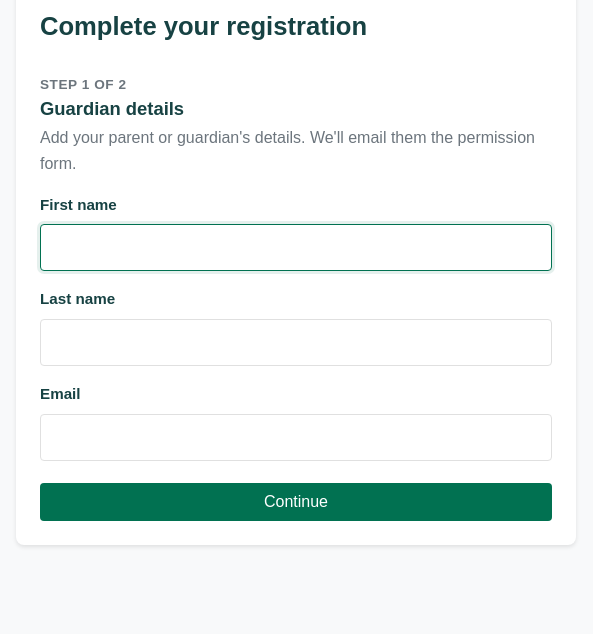
Test: from a registration email › takes them back to their guardian when the server refuses them
Type "Taylor" into the field with id "guardian-first-name". click: coordinates (296, 248)
box: [40,224,552,272]
Type "Pupil" into the field with id "guardian-last-name". click: coordinates (296, 343)
box: [40,319,552,366]
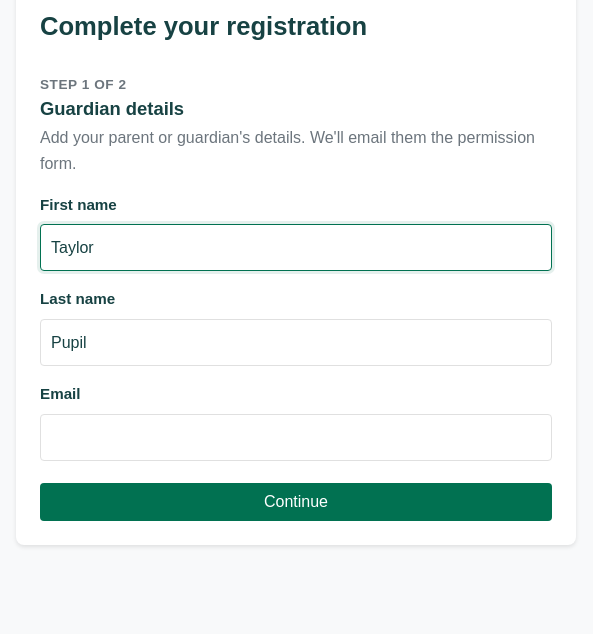
Type "pupil@example.com" into the field with id "guardian-email". click: coordinates (296, 438)
box: [40,414,552,461]
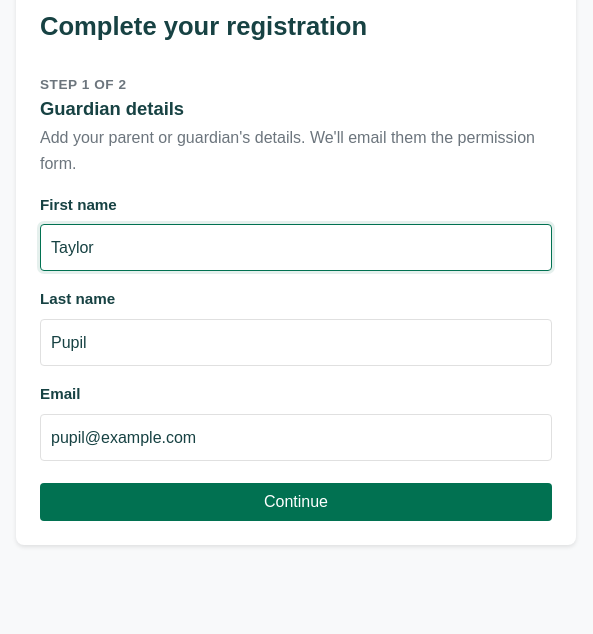
Submit the form, box [40,193,552,521]
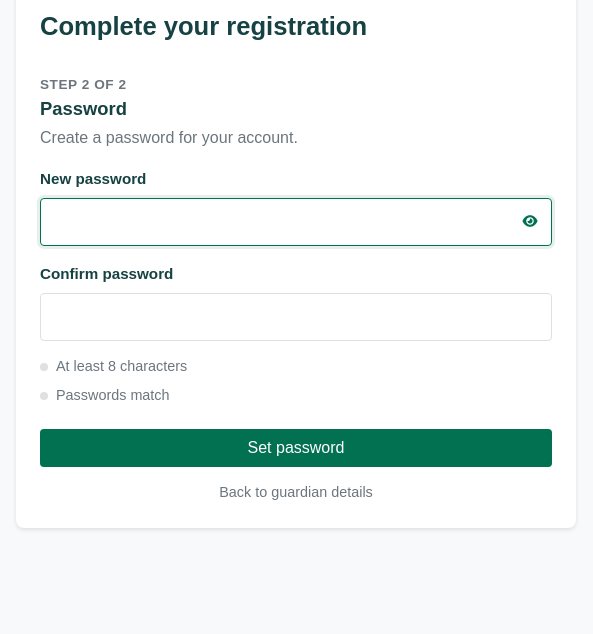
Type "a-good-password" into the password field with id "new-password". click: coordinates (277, 222)
box: [41,199,513,245]
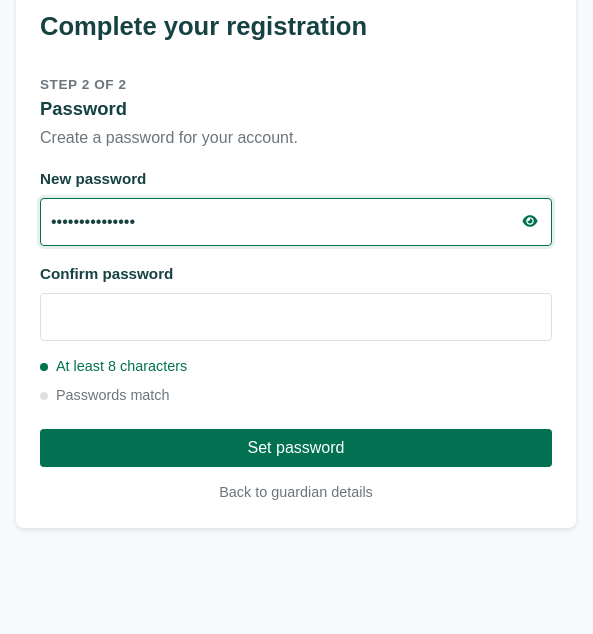
Type "a-good-password" into the password field with id "confirm-password". click: coordinates (296, 317)
box: [40,293,552,341]
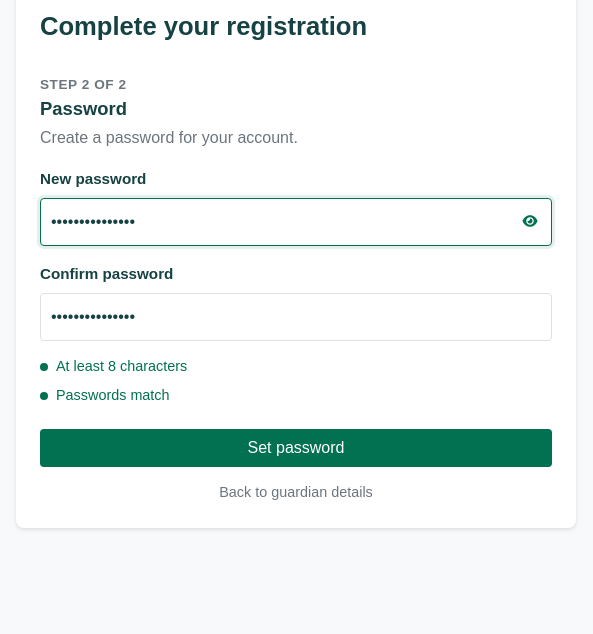
Submit the form, box [40,167,552,504]
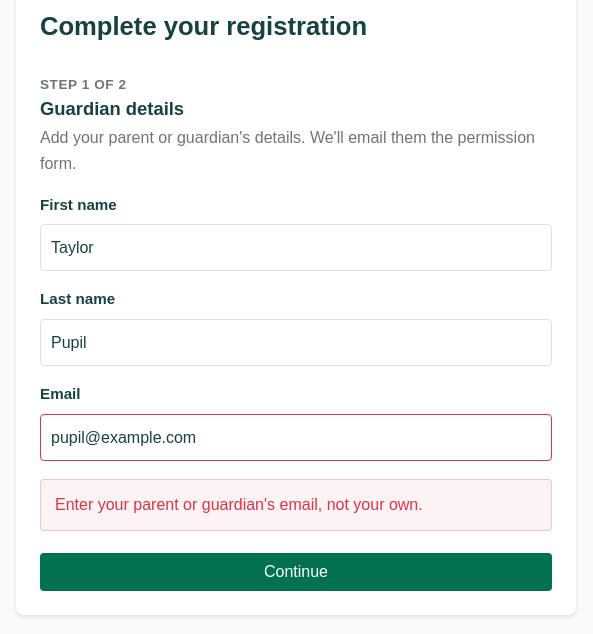
Result: the text with class "step-label" reads "Step 1 of 2" at [40,77,127,92]
Result: the message with class "error-message" reads "Enter your parent or guardian's email, not your own." at [55,496,423,513]
